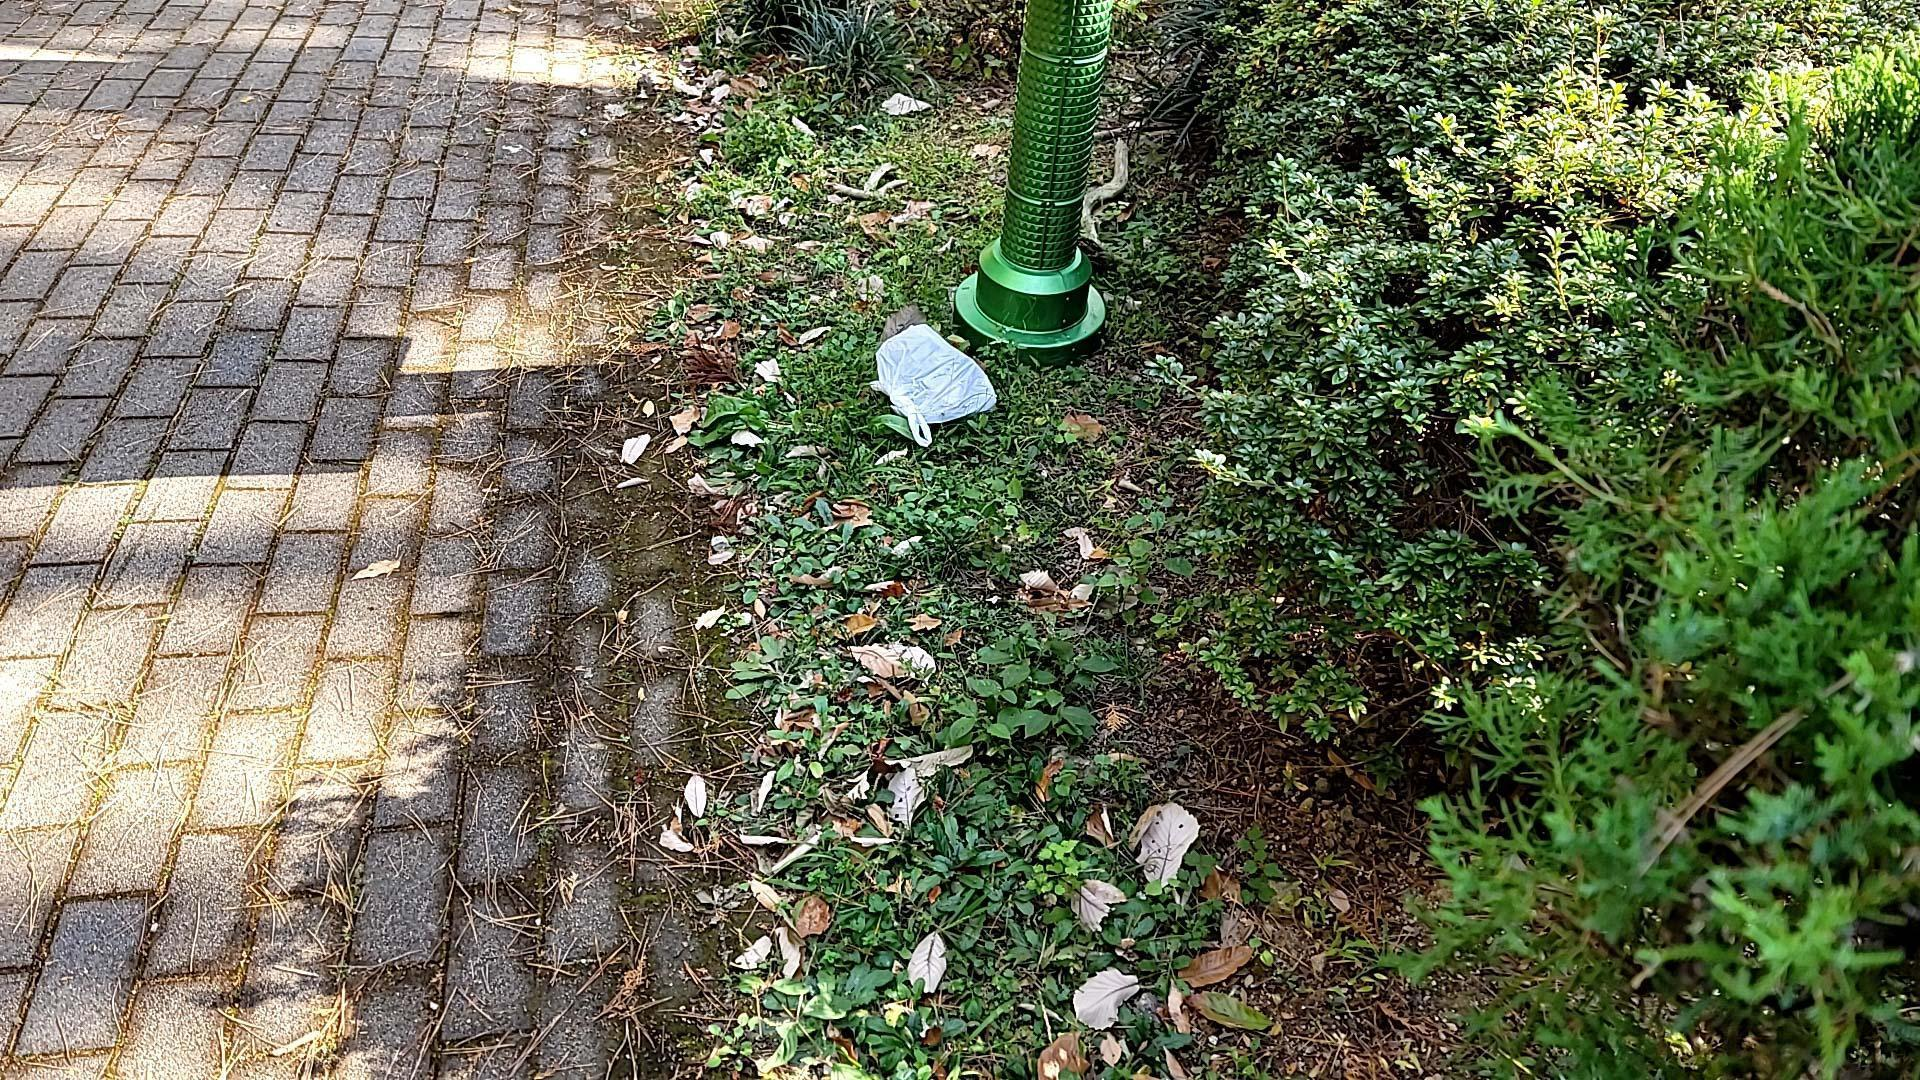white_bag: (862, 320, 1021, 452)
